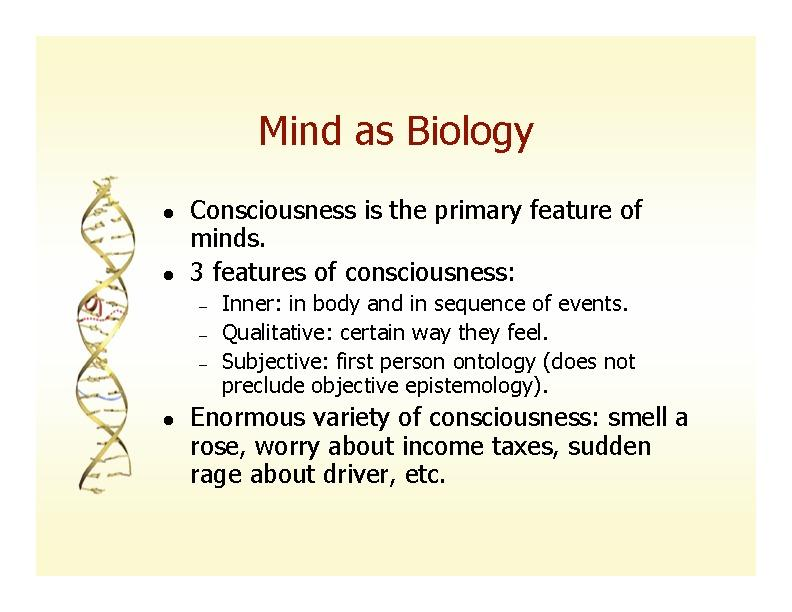paragraph: (151, 179, 717, 517)
title: (246, 100, 554, 165)
